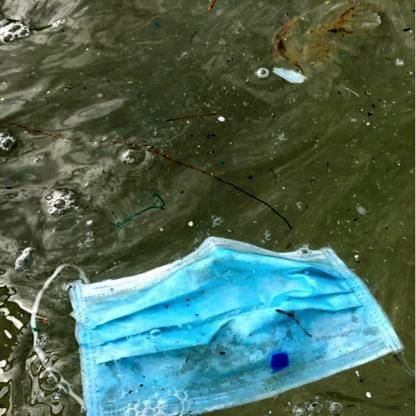Mask: (17, 238, 408, 416)
